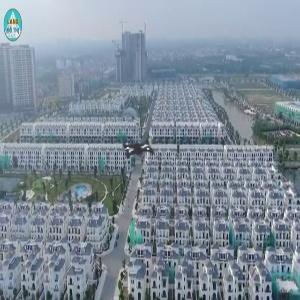drone: (100, 113, 180, 193)
